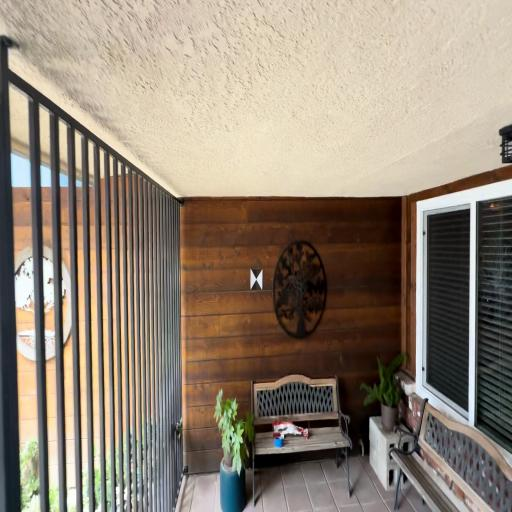target: (250, 270, 262, 291)
